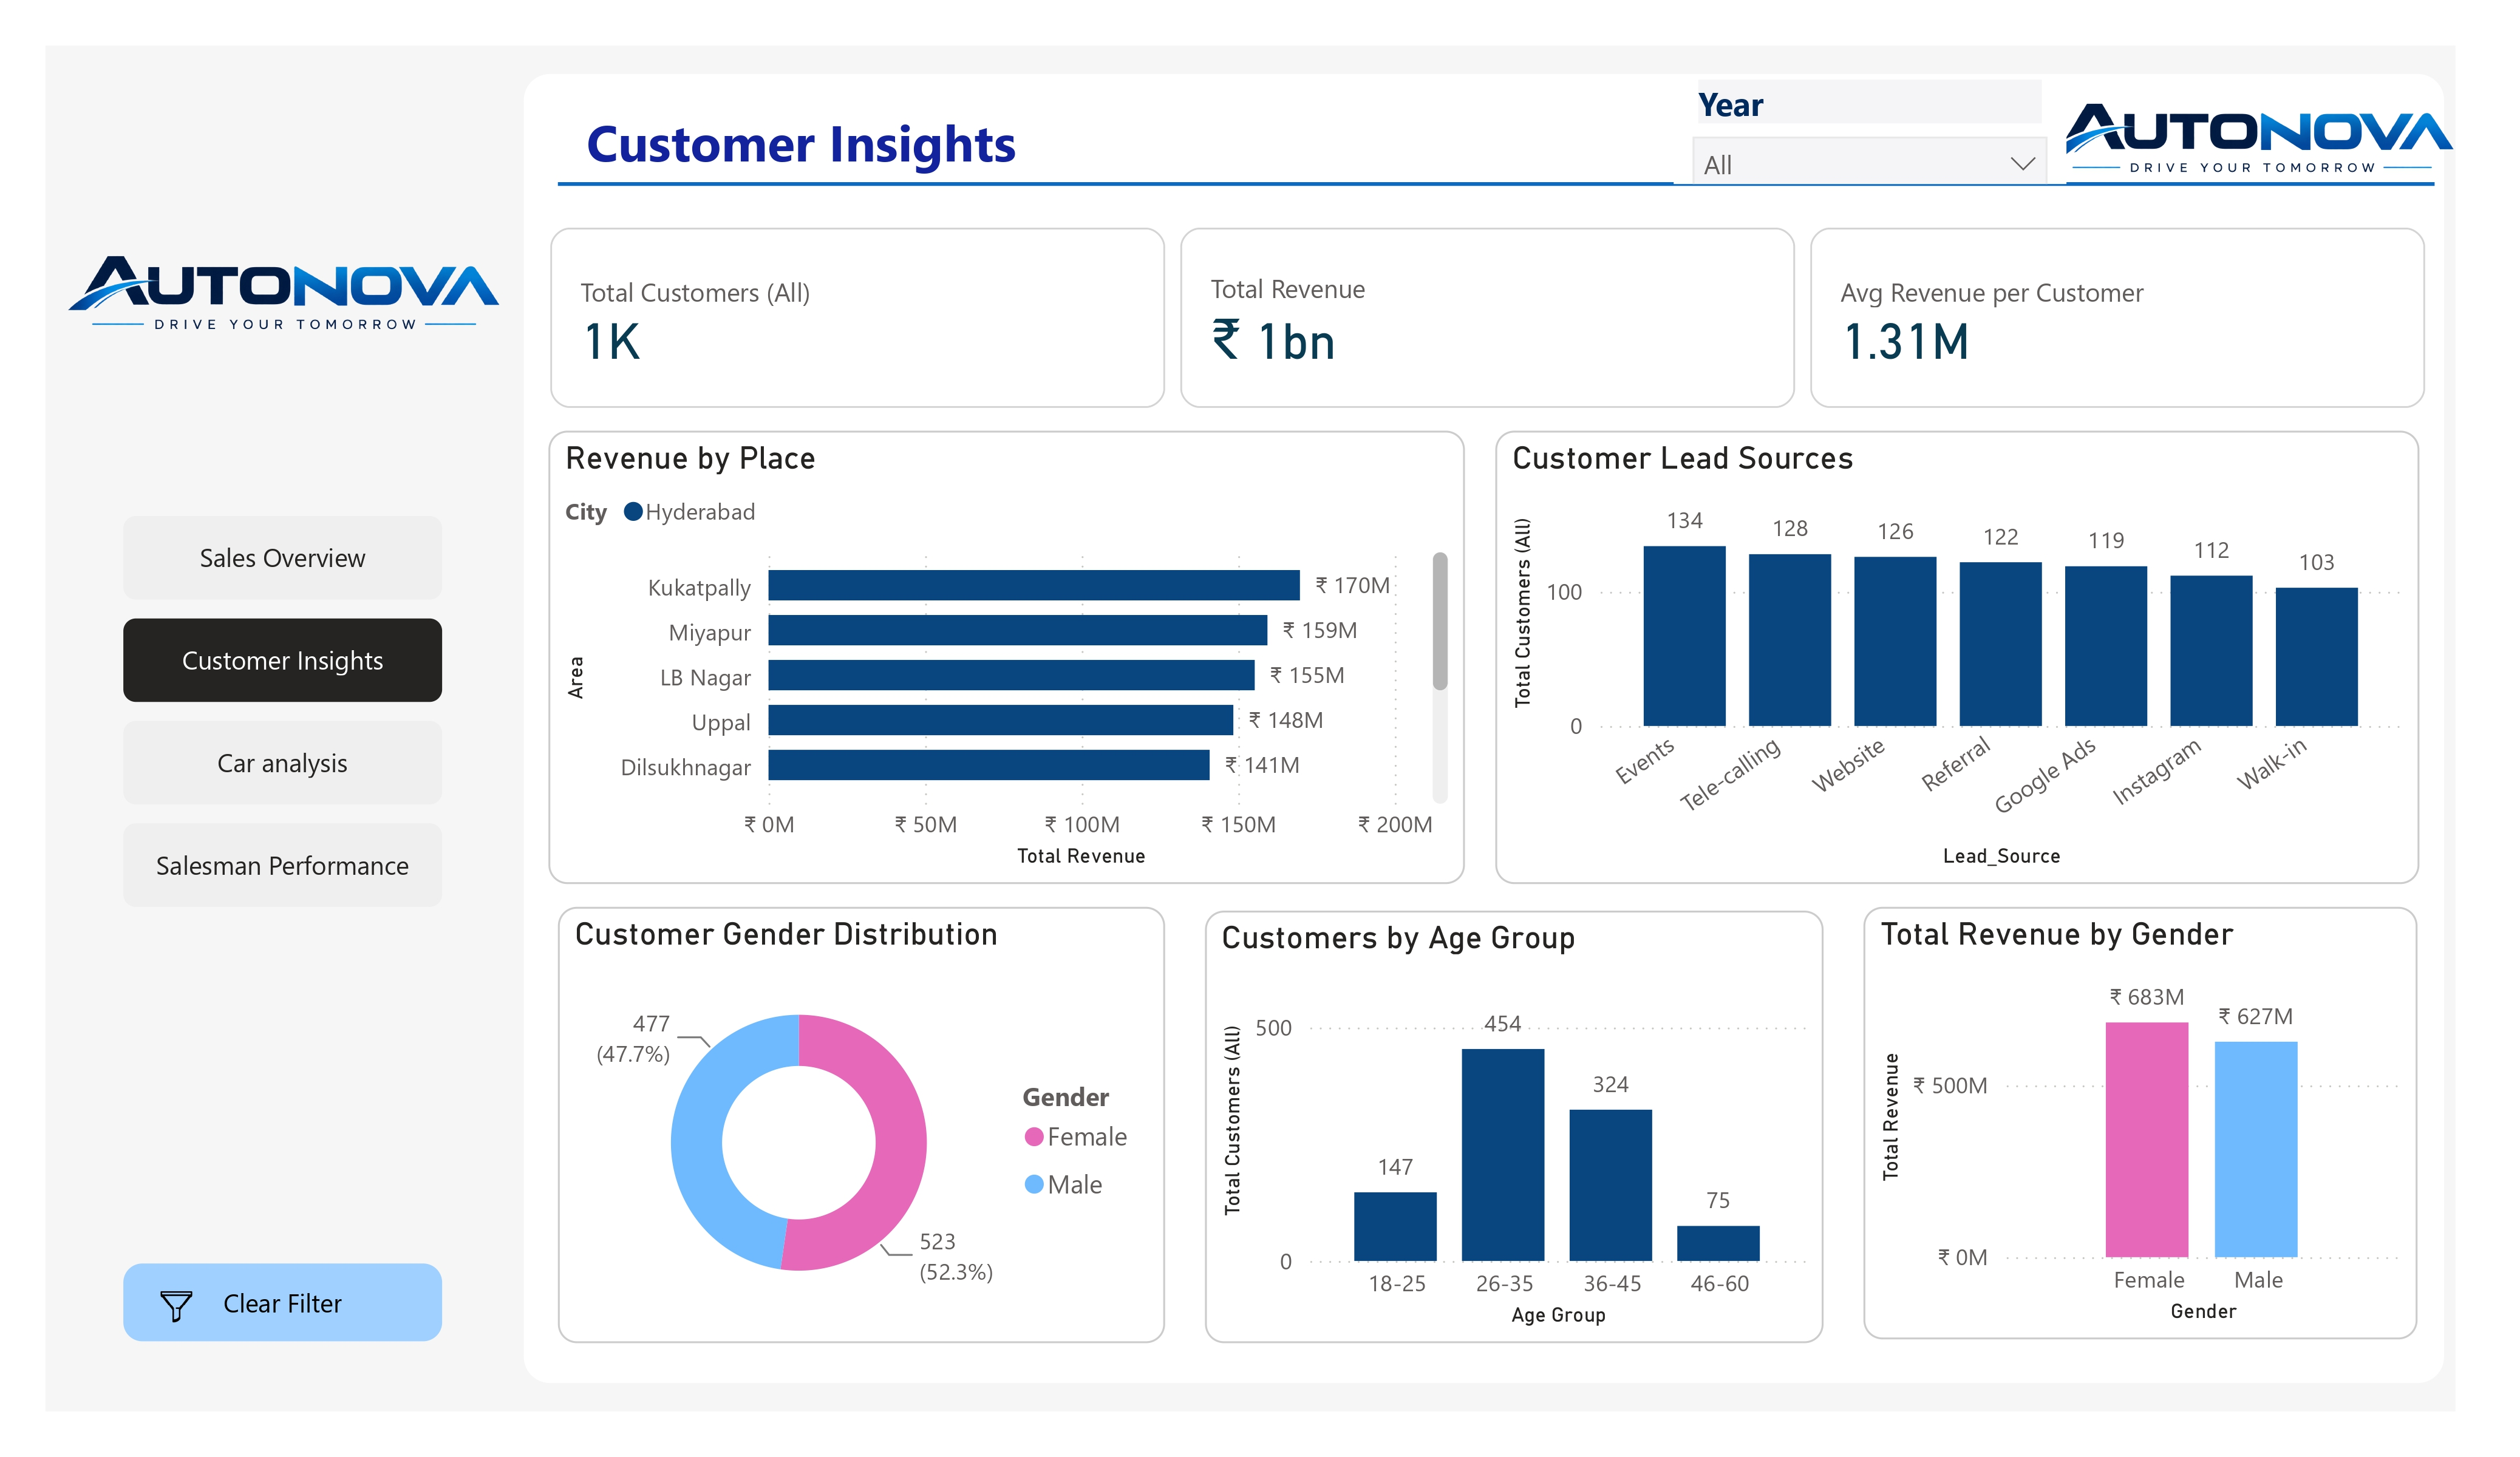

Layout of this report page (visuals, bound fields, positions):
{"tool":"powerbi","page":{"name":"Customer Insights","canvas":[1280,720],"ordinal":1},"visuals":[{"type":"shape","box":[0,0,1270.1,720.2],"z":0},{"type":"shape","box":[237,0,1042.4,720.2],"z":1000},{"type":"image","box":[1044.8,0,234.7,98.4],"z":2000},{"type":"shape","box":[270.2,0,988.4,145.5],"z":3000},{"type":"image","box":[0,0,251.3,260.8],"z":4000},{"type":"textbox","box":[279.8,26.6,300.8,56],"z":5000},{"type":"cardVisual","fields":{"Data":["_Measures.Total Customers (All)","_Measures.Total Revenue (OnRoad)","_Measures.Avg Revenue per Customer"]},"box":[265.7,83.5,989,119.6],"z":6000},{"type":"clusteredBarChart","title":"Revenue  by Place","fields":{"Category":["Customers.Area"],"Series":["Customers.City"],"Y":["_Measures.Total Revenue (OnRoad)"]},"box":[265.3,202.6,482.6,239.1],"z":7000},{"type":"columnChart","title":"Customer Lead Sources","fields":{"Category":["Customers.Lead_Source"],"Y":["_Measures.Total Customers (All)"]},"box":[763.9,202.6,486.9,239.1],"z":8000},{"type":"pageNavigator","box":[40.7,248.1,168.5,205.5],"z":9000},{"type":"actionButton","box":[40.7,642.5,168.5,40.7],"z":10000},{"type":"image","box":[40.7,653.6,55.5,20.4],"z":11000},{"type":"donutChart","title":"Customer Gender Distribution","fields":{"Category":["Customers.Gender"],"Y":["_Measures.Total Customers (All)"]},"box":[270,454,320,230],"z":12000},{"type":"clusteredColumnChart","title":"Total Revenue  by Gender","fields":{"Category":["Customers.Gender"],"Y":["_Measures.Total Revenue (OnRoad)"]},"box":[958,454,292,228],"z":13000},{"type":"clusteredColumnChart","title":"Customers  by Age Group","fields":{"Category":["Customers.Age Group"],"Y":["_Measures.Total Customers (All)"]},"box":[611,456,326,228],"z":14000},{"type":"slicer","fields":{"Values":["Date.Year","Sales.DeliveryDate.Variation.Date Hierarchy.Month"]},"box":[857.5,17.5,207.5,55],"z":15000}]}

Visuals, with their boxes on the page's 1280x720 design canvas (x1, y1, x2, y2). These are canvas units, not pixel positions in the 2520x1457 screenshot, which may show the page scaled, cropped or inside an application window:
shape: <bbox>0, 0, 1270, 720</bbox>
shape: <bbox>237, 0, 1279, 720</bbox>
image: <bbox>1045, 0, 1280, 98</bbox>
shape: <bbox>270, 0, 1259, 146</bbox>
image: <bbox>0, 0, 251, 261</bbox>
textbox: <bbox>280, 27, 581, 83</bbox>
cardVisual - _Measures.Total Customers (All) x _Measures.Total Revenue (OnRoad): <bbox>266, 84, 1255, 203</bbox>
"Revenue  by Place" clusteredBarChart: <bbox>265, 203, 748, 442</bbox>
"Customer Lead Sources" columnChart: <bbox>764, 203, 1251, 442</bbox>
pageNavigator: <bbox>41, 248, 209, 454</bbox>
actionButton: <bbox>41, 642, 209, 683</bbox>
image: <bbox>41, 654, 96, 674</bbox>
"Customer Gender Distribution" donutChart: <bbox>270, 454, 590, 684</bbox>
"Total Revenue  by Gender" clusteredColumnChart: <bbox>958, 454, 1250, 682</bbox>
"Customers  by Age Group" clusteredColumnChart: <bbox>611, 456, 937, 684</bbox>
slicer - Date.Year x Sales.DeliveryDate.Variation.Date Hierarchy.Month: <bbox>858, 18, 1065, 72</bbox>
